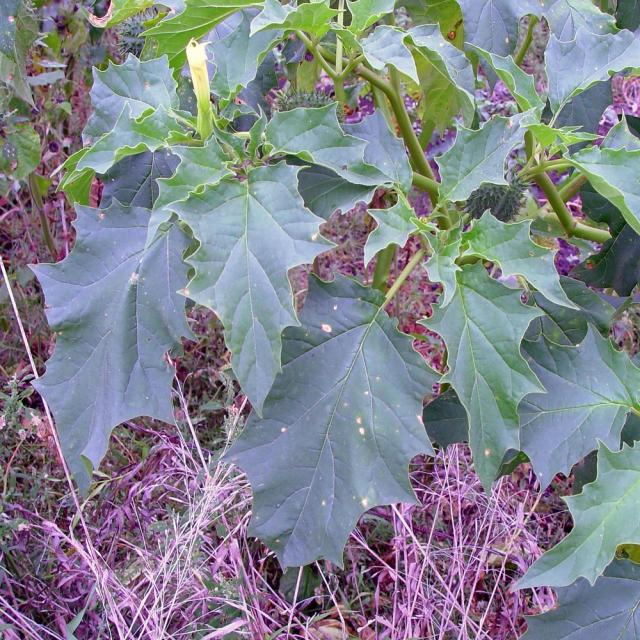Poisonous-Datura_Stramonium: (38, 0, 390, 500), (412, 3, 640, 640)
